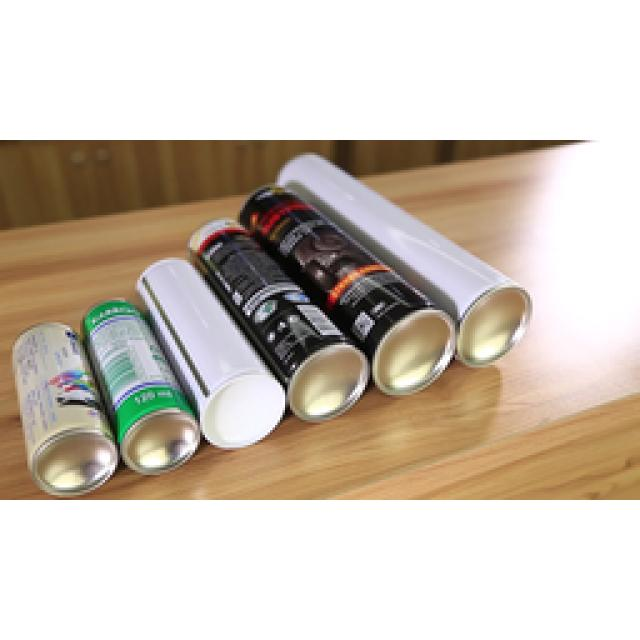B3: (82, 298, 198, 472), (12, 322, 118, 495)
